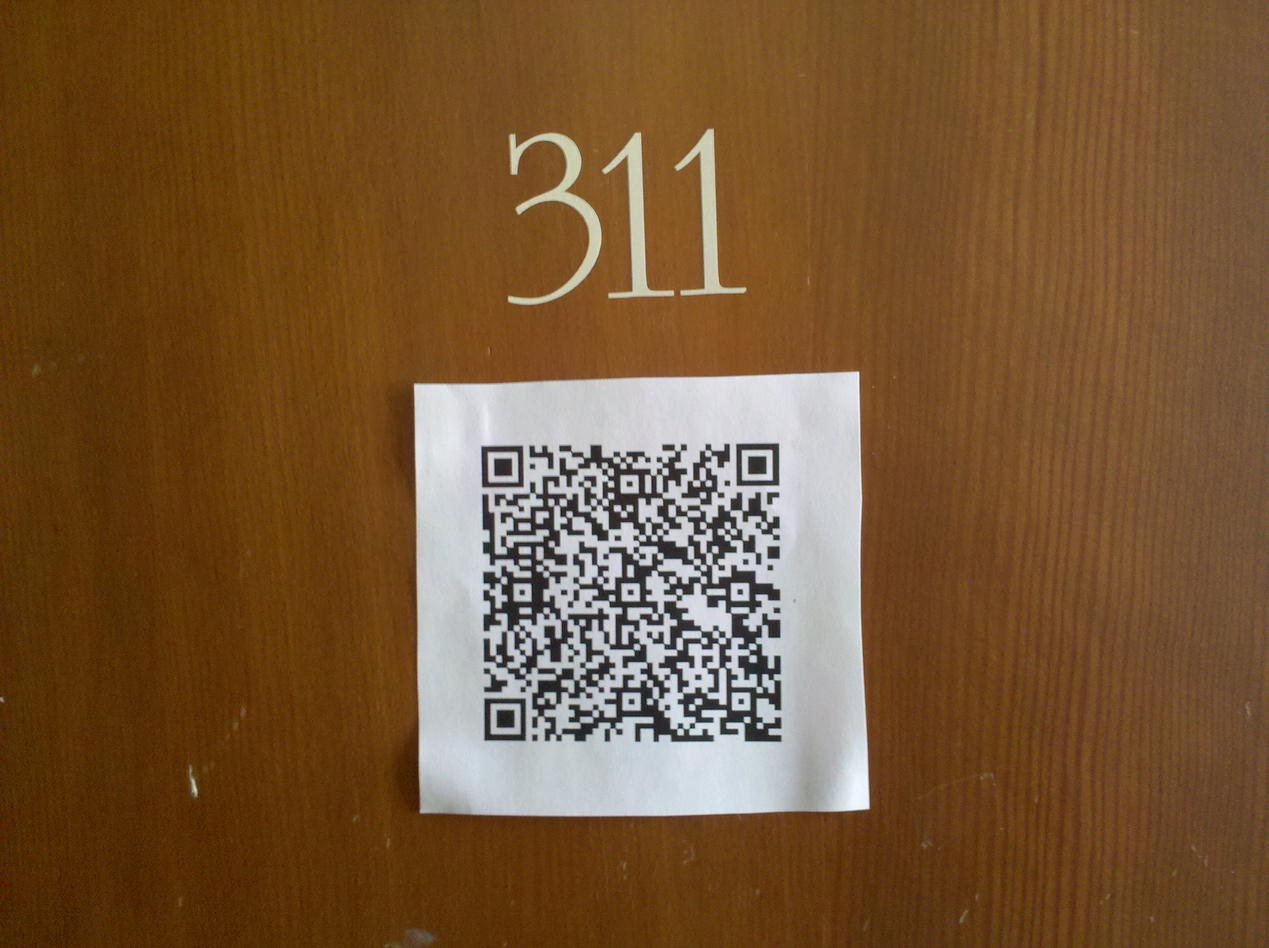QR-CODE: (481, 443, 782, 742)
